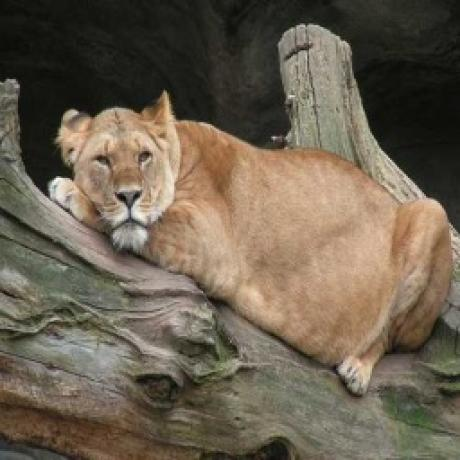Lion: (49, 80, 451, 394)
